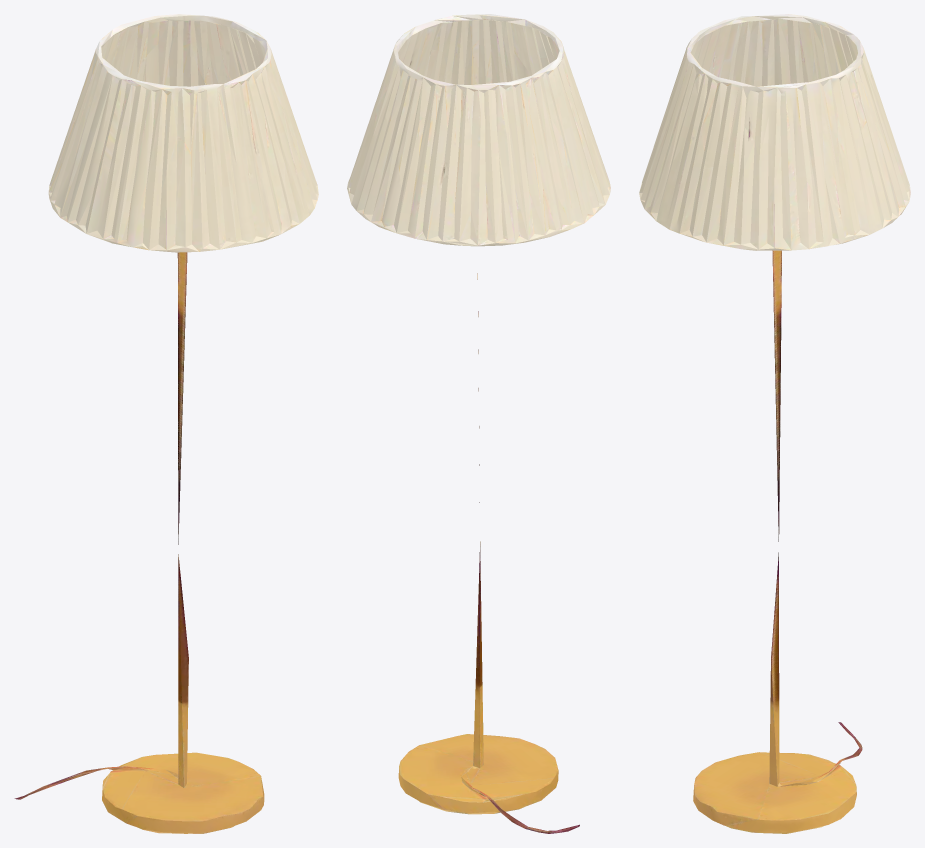
File: lamp.glb
3 views of the same model, side by side, from view 1: azimuth 30°, elevation 25°; view 2: azimuth 150°, elevation 25°; view 3: azimuth 270°, elevation 25° (orthographic). The views are drawn at different scales.
Bounding box in the file's own units: 0.668 × 1.9 × 0.621.
1 material, 1 textured.
